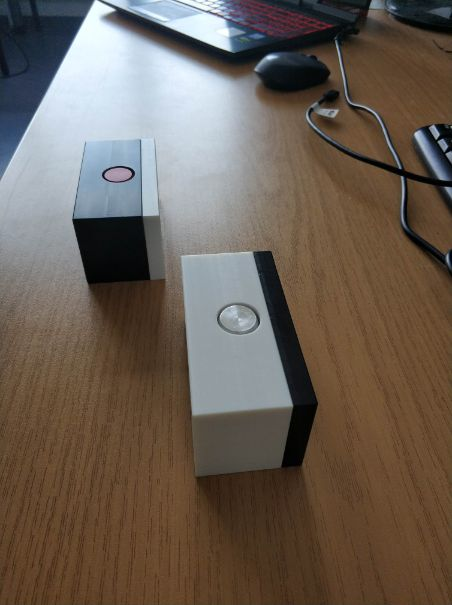black+white+silver: (179, 250, 320, 479)
white+black+red: (70, 135, 170, 286)
